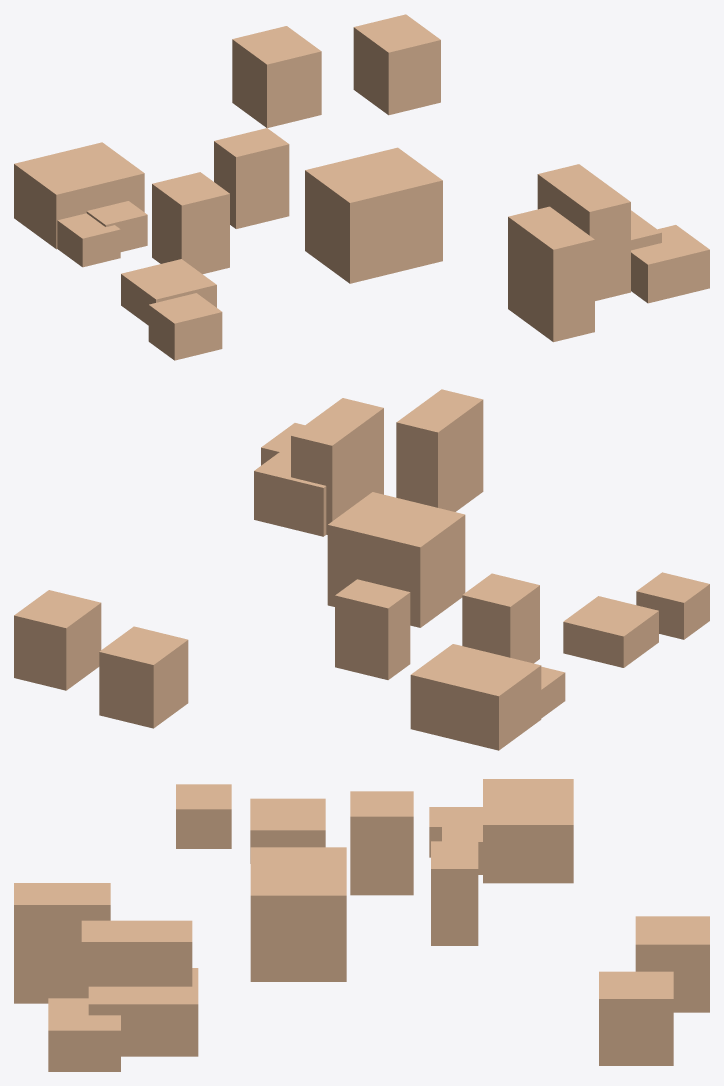
3 views of the same model, one above another, from view 1: azimuth 30°, elevation 25°; view 2: azimuth 150°, elevation 25°; view 3: azimuth 270°, elevation 25° (orthographic). The views are drawn at different scales.
Size of the model in its own units: 149 by 27.73 by 177.
